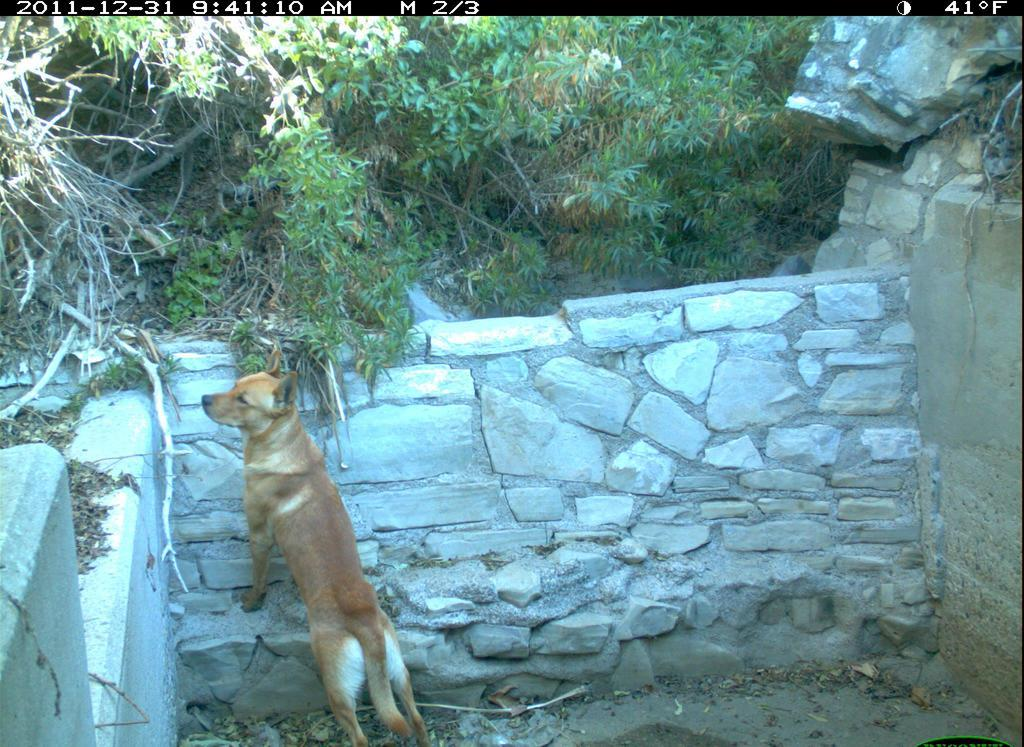dog: (204, 349, 437, 747)
